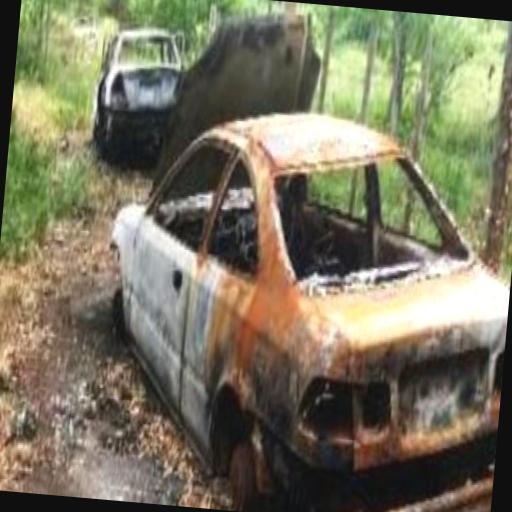corrosion: (339, 360, 477, 469), (238, 133, 303, 363)
